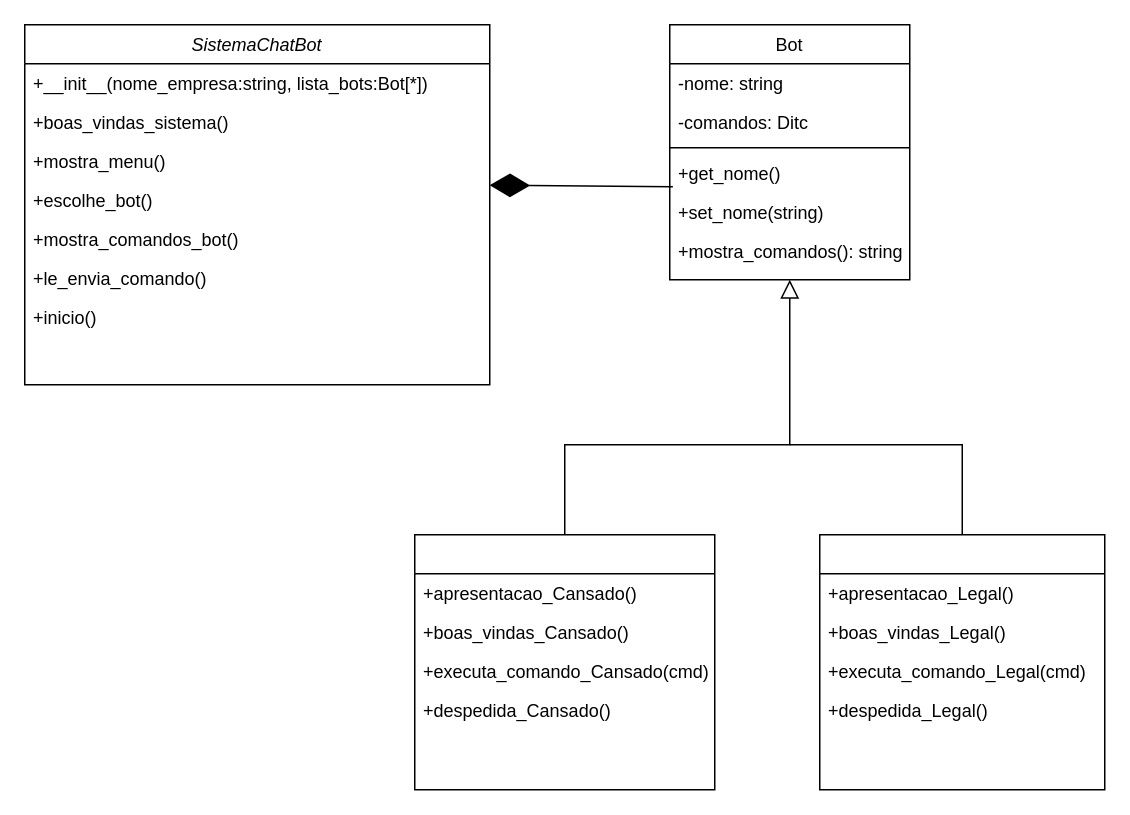
Some shapes in this 1130 by 815 pixel diagram are drawn without their labels. The shapes that lost their labels are listed below. From the top down, each one's box as (x1, y1, x2, y2) in pixels, then its label:
(413, 533, 715, 790): BotCansado
(818, 533, 1105, 790): BotLegal
